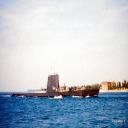submarine: (28, 75, 84, 98)
